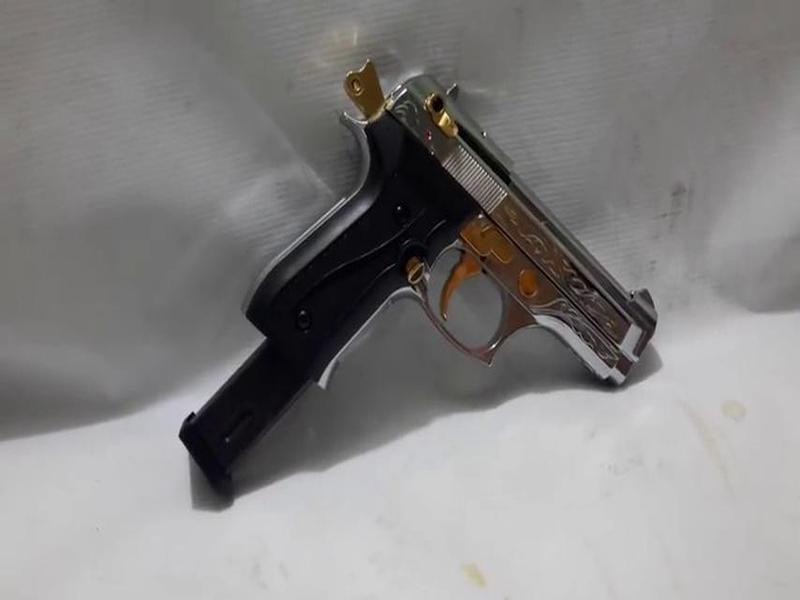Pistola: (272, 63, 654, 390)
